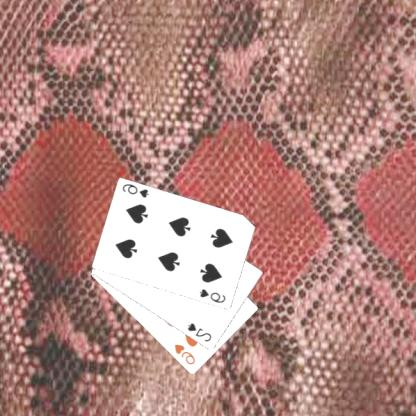2S: (186, 320, 215, 344)
6S: (199, 286, 229, 305), (122, 181, 152, 200)
9H: (174, 342, 198, 366)
